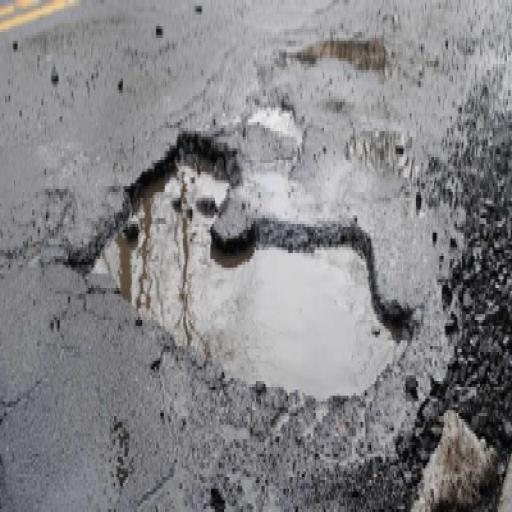pothole: (66, 122, 414, 402), (288, 29, 385, 73), (247, 93, 305, 148)
